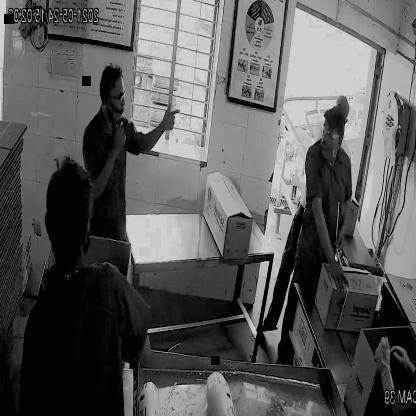goggles: (319, 119, 347, 143), (101, 86, 127, 108)
